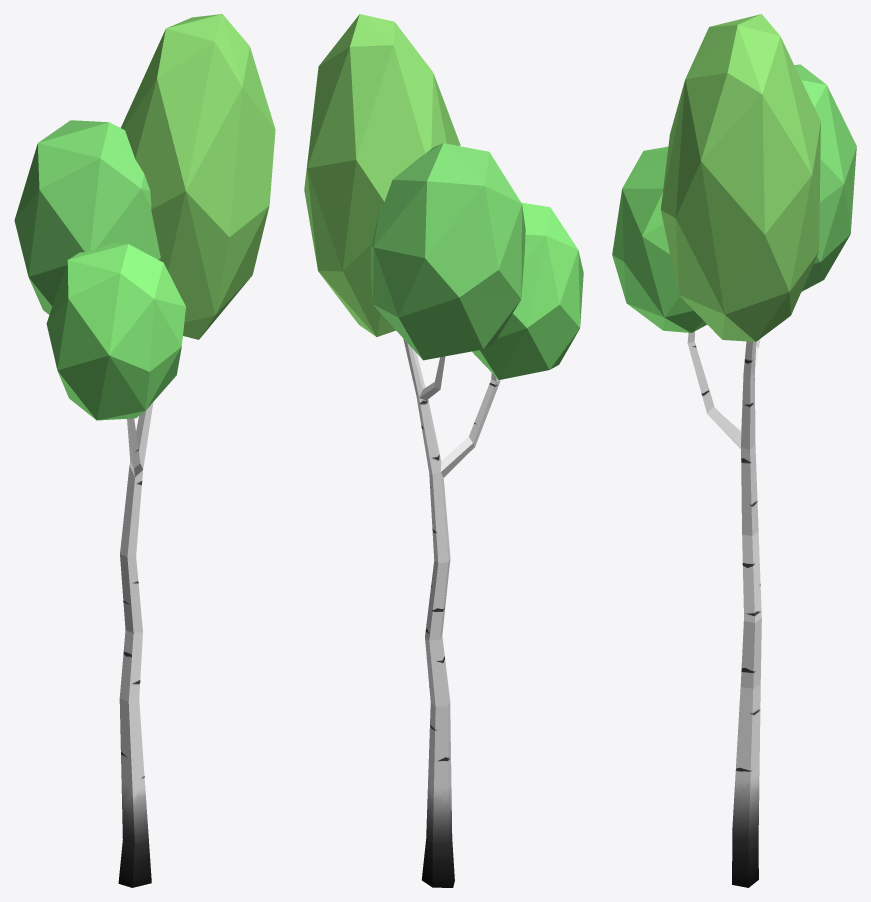
Rendered from Birch_Tree_l_02_LOD.fbx.
The picture shows the model from 3 angles, left to right: view 1: azimuth 30°, elevation 25°; view 2: azimuth 150°, elevation 25°; view 3: azimuth 270°, elevation 25°; orthographic projection. The views are drawn at different scales.
Visible parts, largest first — view 1: Birch_Tree_l_02_LOD0; view 2: Birch_Tree_l_02_LOD0; view 3: Birch_Tree_l_02_LOD0.
Boxes of the visible parts, bbox=[...] form: Birch_Tree_l_02_LOD0: bbox=[14, 14, 275, 887]; Birch_Tree_l_02_LOD0: bbox=[304, 14, 583, 887]; Birch_Tree_l_02_LOD0: bbox=[612, 14, 856, 887].
Size of what is drawn, in the model's own units: 614 by 2109 by 521.
